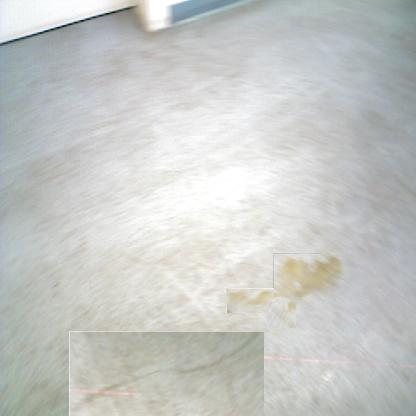liquid: (273, 253, 341, 297), (226, 288, 278, 313), (267, 301, 295, 329)
mark: (69, 331, 264, 416)
